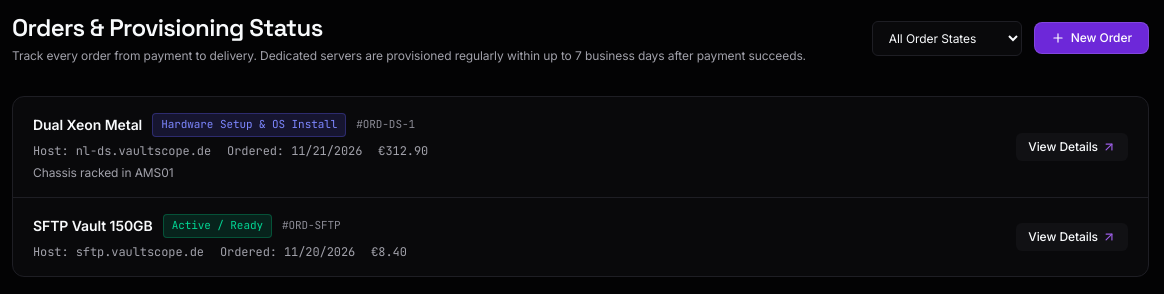
Scenario: DashboardOrders › displays orders with their provisioning state and notes and supports filtering
Expected: the text "Hardware Setup & OS Install" is shown, [152, 113, 346, 137]
Expected: the text "Chassis racked in AMS01" is shown, [33, 165, 174, 180]
Select "Hardware Setup" in the dropdown named "Filter by order state" at (947, 38), box [872, 20, 1022, 56]
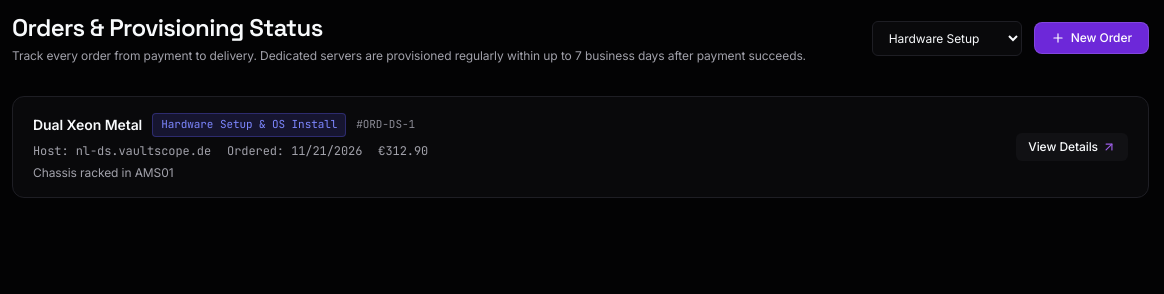
Expected: the text "Dual Xeon Metal" is shown, [33, 115, 142, 135]
Result: the text "SFTP Vault 150GB" is gone
